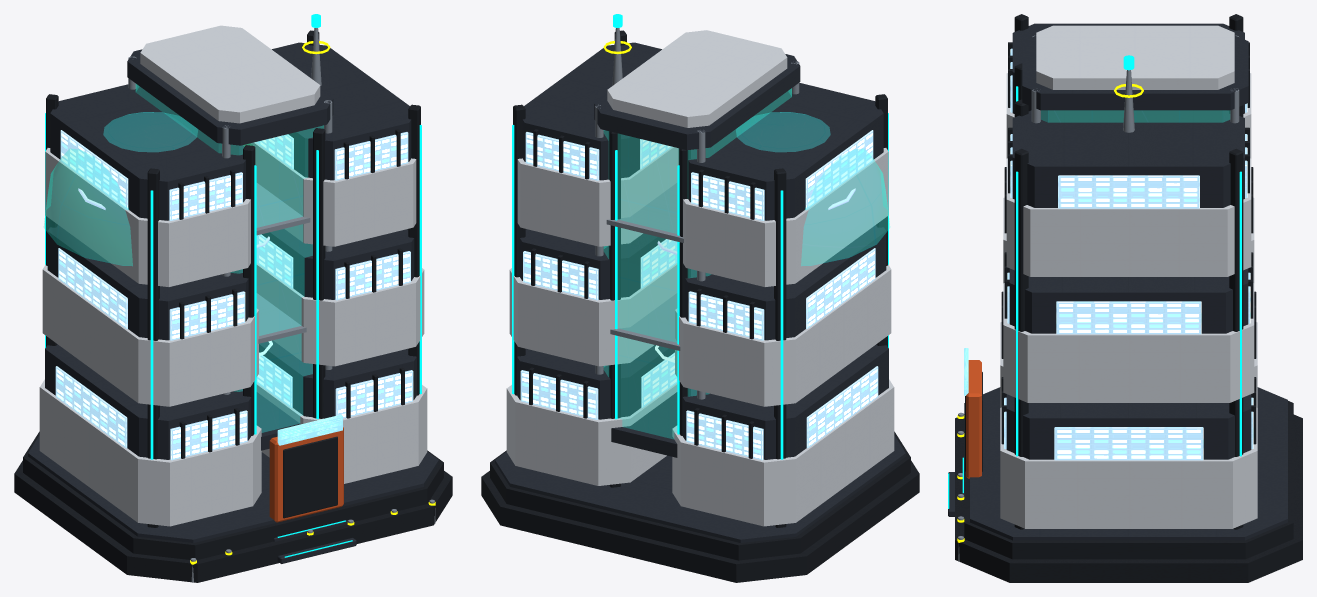
The model's file is bldg_06_r1_03.glb.
3 views of the same model, side by side, from view 1: azimuth 30°, elevation 25°; view 2: azimuth 150°, elevation 25°; view 3: azimuth 270°, elevation 25° (orthographic). The views are drawn at different scales.
Visible parts, largest first — view 1: Bldg06_C03_aero_white, Bldg06_C03_carbon_slate, Bldg06_C03_gunmetal, Bldg06_C03_glass_emerald, Bldg06_C03_window_lit, Bldg06_C03_steel_machined, Bldg06_C03_led_cyan, Bldg06_C03_accent_orange, Bldg06_C03_marquee; view 2: Bldg06_C03_aero_white, Bldg06_C03_carbon_slate, Bldg06_C03_gunmetal, Bldg06_C03_glass_emerald, Bldg06_C03_window_lit, Bldg06_C03_steel_machined, Bldg06_C03_led_cyan; view 3: Bldg06_C03_aero_white, Bldg06_C03_carbon_slate, Bldg06_C03_gunmetal, Bldg06_C03_window_lit, Bldg06_C03_glass_emerald, Bldg06_C03_led_cyan, Bldg06_C03_accent_orange, Bldg06_C03_steel_machined.
Boxes of the visible parts, box(x1,y1,x2,y2) form: Bldg06_C03_aero_white: box(39, 25, 427, 526); Bldg06_C03_carbon_slate: box(28, 42, 438, 563); Bldg06_C03_gunmetal: box(14, 30, 452, 582); Bldg06_C03_glass_emerald: box(44, 84, 323, 432); Bldg06_C03_window_lit: box(55, 130, 413, 460); Bldg06_C03_steel_machined: box(128, 28, 435, 582); Bldg06_C03_led_cyan: box(45, 14, 421, 557); Bldg06_C03_accent_orange: box(269, 427, 343, 522); Bldg06_C03_marquee: box(277, 414, 342, 445); Bldg06_C03_aero_white: box(506, 30, 894, 526); Bldg06_C03_carbon_slate: box(495, 42, 905, 542); Bldg06_C03_gunmetal: box(481, 30, 919, 582); Bldg06_C03_glass_emerald: box(603, 88, 889, 438); Bldg06_C03_window_lit: box(520, 130, 878, 460); Bldg06_C03_steel_machined: box(595, 28, 901, 442); Bldg06_C03_led_cyan: box(512, 14, 888, 459); Bldg06_C03_aero_white: box(1000, 25, 1257, 528); Bldg06_C03_carbon_slate: box(948, 23, 1287, 540); Bldg06_C03_gunmetal: box(955, 14, 1302, 582); Bldg06_C03_window_lit: box(1004, 48, 1253, 460); Bldg06_C03_glass_emerald: box(1041, 110, 1229, 122); Bldg06_C03_led_cyan: box(948, 55, 1241, 508); Bldg06_C03_accent_orange: box(966, 360, 981, 478); Bldg06_C03_steel_machined: box(958, 35, 1239, 561).
Bounding box in the file's own units: 12.5 × 16.12 × 10.71.
14 materials, 14 textured.
